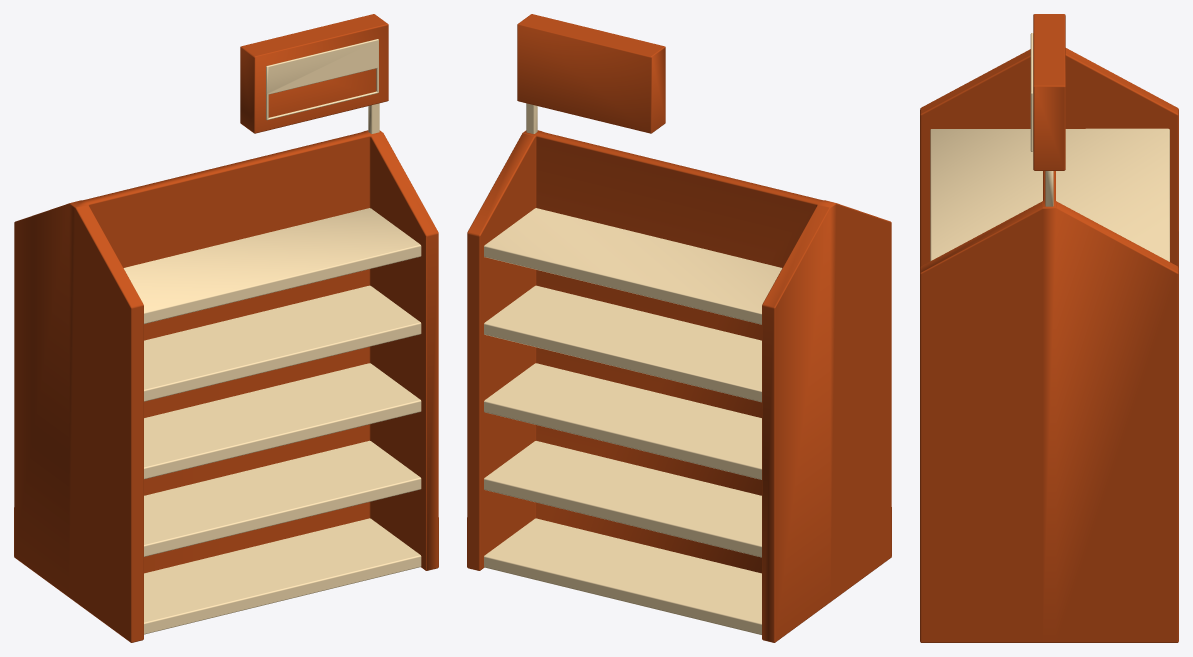
File: ss-shelf.lod0.glb
3 views of the same model, side by side, from view 1: azimuth 30°, elevation 25°; view 2: azimuth 150°, elevation 25°; view 3: azimuth 270°, elevation 25° (orthographic). The views are drawn at different scales.
Visible parts, largest first — view 1: Object_101, Object_103; view 2: Object_101, Object_103; view 3: Object_101, Object_103.
Boxes of the visible parts, <box> form: Object_101: <box>14,14,438,642</box>; Object_103: <box>123,39,421,634</box>; Object_101: <box>467,14,891,642</box>; Object_103: <box>484,103,782,634</box>; Object_101: <box>920,14,1178,642</box>; Object_103: <box>930,33,1169,261</box>.
Bounding box in the file's own units: 1.8 × 2.81 × 1.18.
